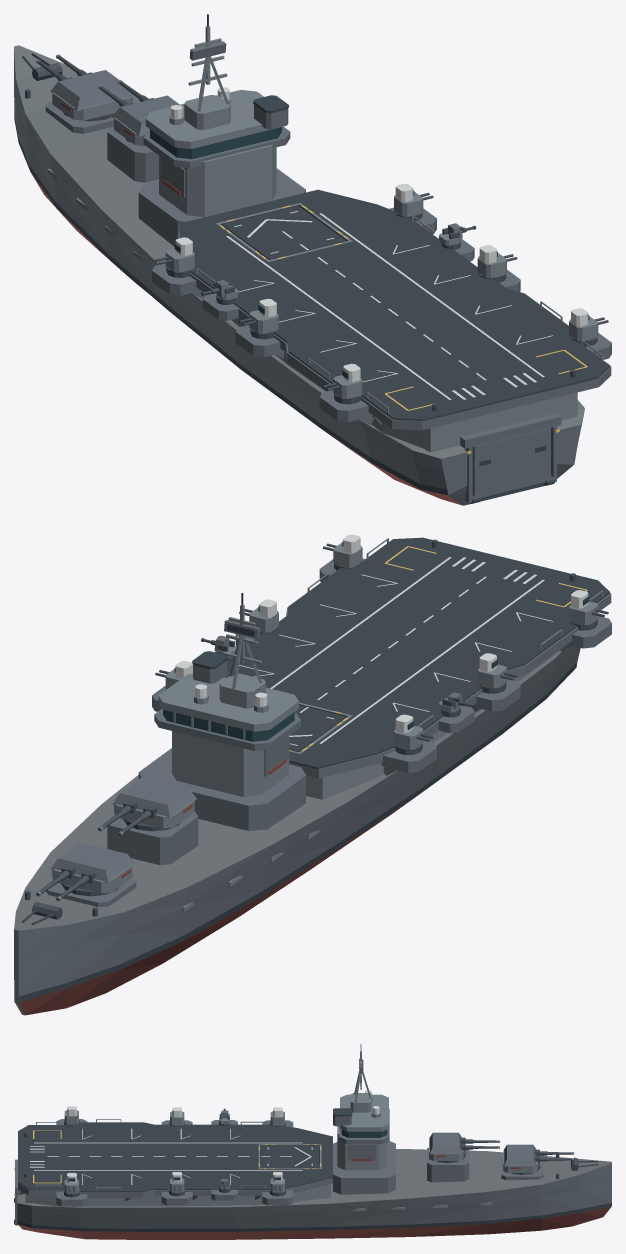
Rendered from EnemyHybridBoss.fbx.
The picture shows the model from 3 angles, top to bottom: view 1: azimuth 30°, elevation 25°; view 2: azimuth 150°, elevation 25°; view 3: azimuth 270°, elevation 25°; orthographic projection. The views are drawn at different scales.
Visible parts, largest first — view 1: FlightDeck_Mesh, Hull_Mesh, BridgeAssembly_Mesh, SternGatePivot_Mesh, DroneElevatorPivot_Mesh, MainGun_01_Mesh, SternWellDeck_Mesh, MainGun_02_Mesh, AA_Port_01_Mesh, AA_Port_02_Mesh, AA_Port_03_Mesh, AA_Starboard_01_Mesh (+3 smaller); view 2: FlightDeck_Mesh, Hull_Mesh, BridgeAssembly_Mesh, MainGun_01_Mesh, MainGun_02_Mesh, DroneElevatorPivot_Mesh, AA_Port_02_Mesh, AA_Port_01_Mesh, AA_Port_03_Mesh, AA_Starboard_03_Mesh, AA_Starboard_02_Mesh, MainGun_Elevation_01_Mesh (+1 smaller); view 3: Hull_Mesh, FlightDeck_Mesh, BridgeAssembly_Mesh, DroneElevatorPivot_Mesh, MainGun_01_Mesh, MainGun_02_Mesh, DroneElevatorShaft_Mesh, MainGun_Elevation_02_Mesh, MainGun_Elevation_01_Mesh.
Boxes of the visible parts, left/top/right/bottom form: FlightDeck_Mesh: left=152, top=189, right=611, bottom=452; Hull_Mesh: left=14, top=45, right=584, bottom=505; BridgeAssembly_Mesh: left=138, top=14, right=305, bottom=246; SternGatePivot_Mesh: left=472, top=428, right=550, bottom=497; DroneElevatorPivot_Mesh: left=222, top=206, right=345, bottom=259; MainGun_01_Mesh: left=50, top=70, right=134, bottom=120; SternWellDeck_Mesh: left=460, top=413, right=561, bottom=503; MainGun_02_Mesh: left=112, top=95, right=179, bottom=146; AA_Port_01_Mesh: left=165, top=237, right=194, bottom=272; AA_Port_02_Mesh: left=249, top=298, right=278, bottom=333; AA_Port_03_Mesh: left=333, top=363, right=362, bottom=398; AA_Starboard_01_Mesh: left=394, top=183, right=423, bottom=216; FlightDeck_Mesh: left=152, top=537, right=611, bottom=799; Hull_Mesh: left=14, top=539, right=580, bottom=1015; BridgeAssembly_Mesh: left=138, top=593, right=305, bottom=830; MainGun_01_Mesh: left=50, top=842, right=134, bottom=893; MainGun_02_Mesh: left=112, top=777, right=196, bottom=828; DroneElevatorPivot_Mesh: left=289, top=705, right=346, bottom=751; AA_Port_02_Mesh: left=477, top=653, right=506, bottom=688; AA_Port_01_Mesh: left=394, top=714, right=423, bottom=749; AA_Port_03_Mesh: left=569, top=590, right=598, bottom=625; AA_Starboard_03_Mesh: left=333, top=534, right=362, bottom=567; AA_Starboard_02_Mesh: left=249, top=599, right=278, bottom=632; MainGun_Elevation_01_Mesh: left=36, top=865, right=95, bottom=901; Hull_Mesh: left=17, top=1132, right=611, bottom=1239; FlightDeck_Mesh: left=18, top=1119, right=332, bottom=1208; BridgeAssembly_Mesh: left=333, top=1044, right=395, bottom=1194; DroneElevatorPivot_Mesh: left=261, top=1145, right=318, bottom=1168; MainGun_01_Mesh: left=503, top=1144, right=537, bottom=1172; MainGun_02_Mesh: left=429, top=1132, right=463, bottom=1160; DroneElevatorShaft_Mesh: left=258, top=1144, right=321, bottom=1169; MainGun_Elevation_02_Mesh: left=460, top=1137, right=499, bottom=1151; MainGun_Elevation_01_Mesh: left=534, top=1149, right=574, bottom=1162.
Size of the model in its own units: 524 by 512 by 1609.
